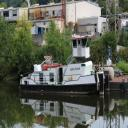tugboat: (20, 32, 111, 99)
